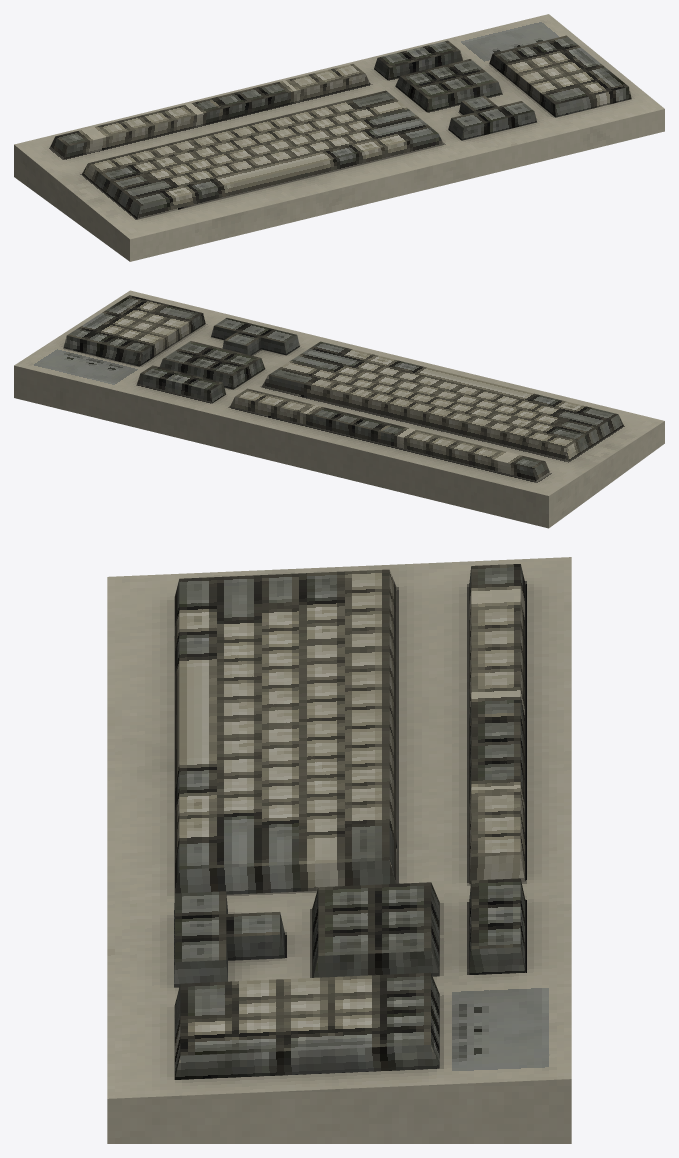
The model's file is Computer Keyboard.glb.
The picture shows the model from 3 angles, top to bottom: view 1: azimuth 30°, elevation 25°; view 2: azimuth 150°, elevation 25°; view 3: azimuth 270°, elevation 25°; orthographic projection. The views are drawn at different scales.
Parts seen in each view (by area): view 1: Cube.006; view 2: Cube.006; view 3: Cube.006.
Boxes of the visible parts, left/top/right/bottom form: Cube.006: left=14, top=14, right=664, bottom=261; Cube.006: left=14, top=290, right=664, bottom=528; Cube.006: left=107, top=557, right=571, bottom=1143.
Size of the model in its own units: 0.6493 by 0.0498 by 0.2442.
1 material, 1 textured.
